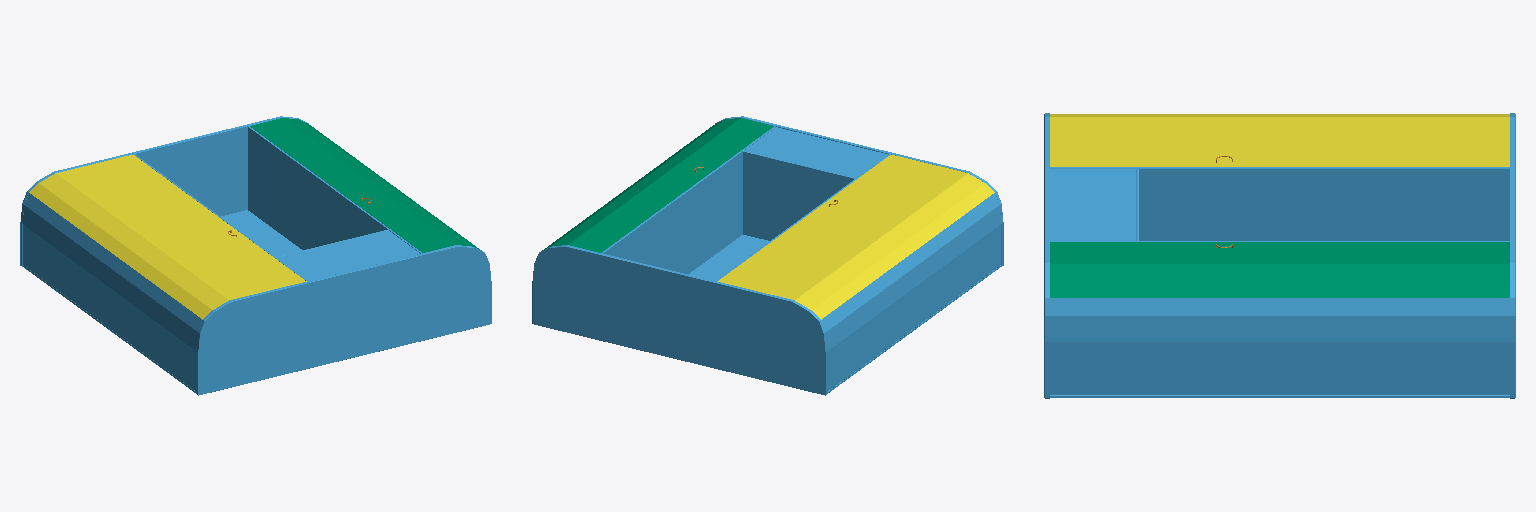
robot.urdf — 194:
<robot name="194">


	<link name="0:virtual">
		<visual>
			<origin xyz="0.0 0.0 0.0" rpy="0 0 0"/>
			<geometry>
				<cylinder length="0" radius="0"/>
			</geometry>
		</visual>
	</link>


	<link name="1:static">
		<visual>
			<origin xyz="-0.0 -0.0 -0.0" rpy="0 0 0"/>
			<geometry>
				<mesh filename="../raw_data/194/part_meshes/1.dae" />
			</geometry>
		</visual>
	</link>


	<link name="2:cabinet door 1">
		<visual>
			<origin xyz="-0.9758101802317241 -1.0499988039955497 -0.16028468172042487" rpy="0 0 0"/>
			<geometry>
				<mesh filename="../raw_data/194/part_meshes/2.dae" />
			</geometry>
		</visual>
	</link>


	<link name="3:cabinet door 2">
		<visual>
			<origin xyz="0.9581099890001904 -1.0499991038814187 -0.2177363586243497" rpy="0 0 0"/>
			<geometry>
				<mesh filename="../raw_data/194/part_meshes/3.dae" />
			</geometry>
		</visual>
	</link>


	<joint name="0:virtual::1:static" type="fixed">
		<parent link="0:virtual"/>
		<child link="1:static"/>
		<origin xyz="0.0 0.0 0.0" rpy="0 0 0"/>
	</joint>


	<joint name="0:virtual::2:cabinet door 1_rotation" type="revolute">
		<parent link="0:virtual"/>
		<child link="2:cabinet door 1"/>
		<origin xyz="0.9758101802317241 1.0499988039955497 0.16028468172042487" rpy="0 0 0"/>
		<limit lower="0.0" upper="2.0263272615654166" effort="10" velocity="3"/>
		<axis xyz="0.0 1.0 0.0"/>
	</joint>


	<joint name="0:virtual::3:cabinet door 2_rotation" type="revolute">
		<parent link="0:virtual"/>
		<child link="3:cabinet door 2"/>
		<origin xyz="-0.9581099890001904 1.0499991038814187 0.2177363586243497" rpy="0 0 0"/>
		<limit lower="-2.0106192982974678" upper="0.0" effort="10" velocity="3"/>
		<axis xyz="0.0 1.0 0.0"/>
	</joint>


</robot>

--- What the picture shows (computed from the rendered views, not written in the file) ---
The picture shows the robot from 3 angles, left to right: view 1: azimuth 30°, elevation 25°; view 2: azimuth 150°, elevation 25°; view 3: azimuth 270°, elevation 25°; orthographic projection.
Robot: 194 — 4 links, 3 joints (2 revolute, 1 fixed); root link 0:virtual; default pose: every joint at zero.
Visible links, largest first — view 1: 1:static, 3:cabinet door 2, 2:cabinet door 1; view 2: 1:static, 3:cabinet door 2, 2:cabinet door 1; view 3: 1:static, 2:cabinet door 1, 3:cabinet door 2.
Link boxes in pixels (x1,y1,x2,y2): 1:static: (20,116,491,395); 3:cabinet door 2: (29,155,306,319); 2:cabinet door 1: (250,118,481,252); 1:static: (532,116,1003,395); 3:cabinet door 2: (717,155,994,319); 2:cabinet door 1: (542,118,773,252); 1:static: (1044,113,1515,398); 2:cabinet door 1: (1050,242,1509,297); 3:cabinet door 2: (1050,114,1509,166).
Bounding box of the posed robot: 2 × 2.1 × 0.5753 m (x, y, z).
3 mesh visuals loaded from 3 distinct referenced files (3 Collada DAE).